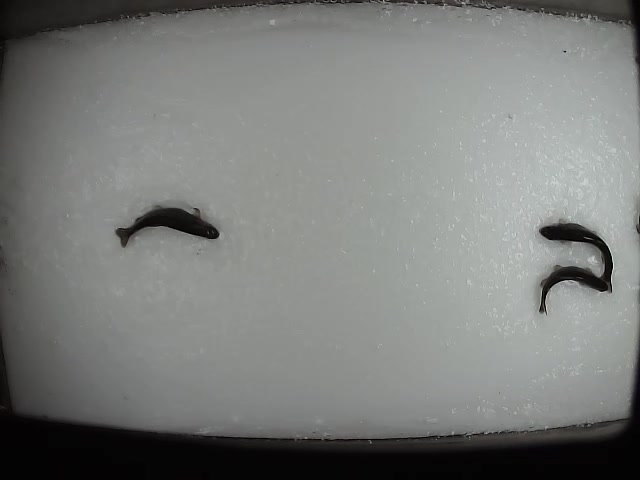fish: (537, 219, 614, 295), (114, 204, 219, 249), (532, 262, 610, 316)
